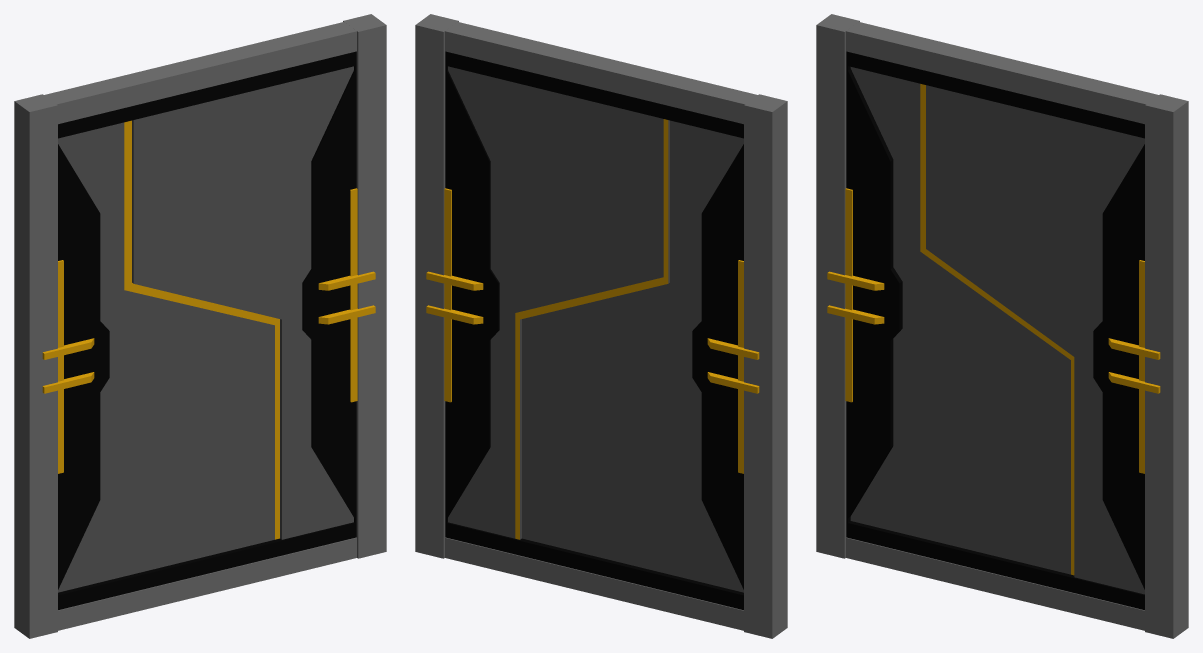
Rendered from Door.fbx.
The picture shows the model from 3 angles, left to right: view 1: azimuth 30°, elevation 25°; view 2: azimuth 150°, elevation 25°; view 3: azimuth 330°, elevation 25°; orthographic projection.
Parts seen in each view (by area): view 1: DoorFrame, Door2, Door1; view 2: DoorFrame, Door2, Door1; view 3: DoorFrame, Door2, Door1.
Boxes of the visible parts, box(x1,y1,x2,y2) form: DoorFrame: box(14, 14, 386, 638); Door2: box(58, 120, 279, 592); Door1: box(132, 66, 353, 539); DoorFrame: box(415, 14, 787, 638); Door2: box(522, 120, 743, 592); Door1: box(448, 66, 669, 539); DoorFrame: box(816, 14, 1188, 638); Door2: box(850, 67, 1074, 575); Door1: box(926, 85, 1144, 594).
Bounding box in the file's own units: 806 × 1137 × 73.86.
